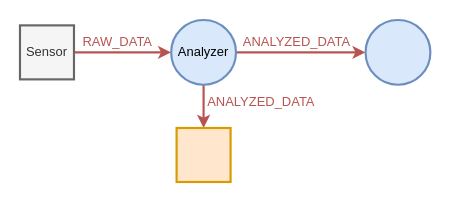
The diagram is 449 pixels wide and 201 high, and some of its shapes have lost their labels. Each missing label, with the box of its shape:
Actuator: (175, 126, 231, 183)
User Interface: (364, 18, 431, 85)
